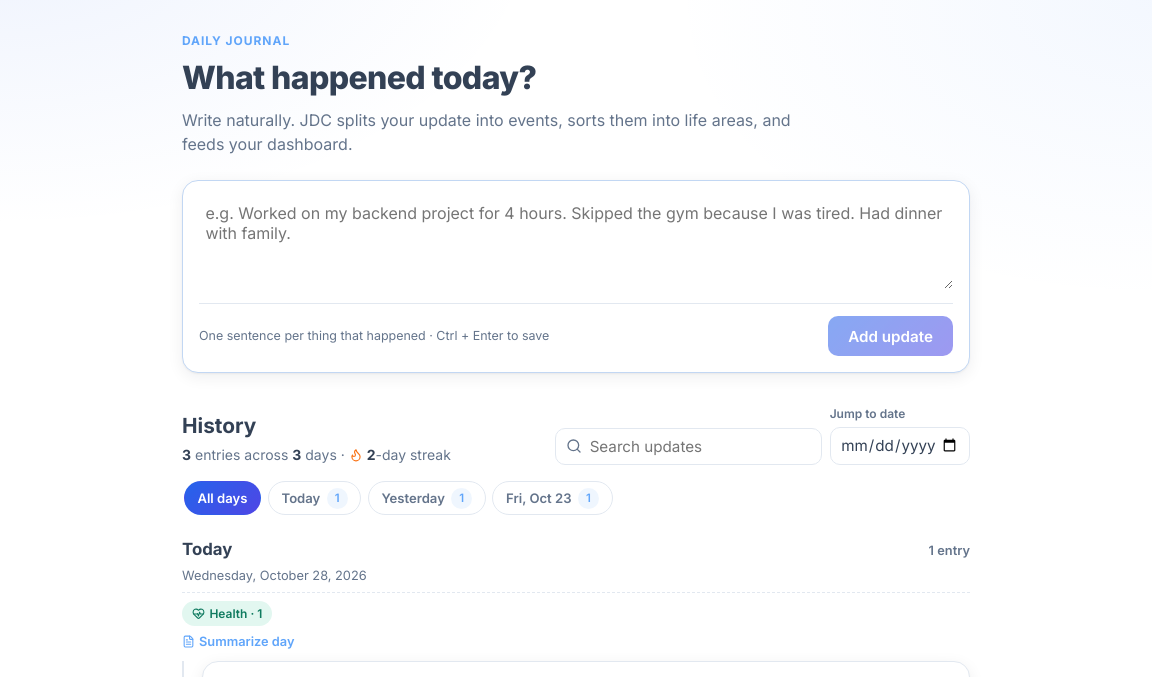
Scenario: Updates history › filters to one day from a chip and back to all
Expected: the heading "Today" is shown, top-left (182, 539), bottom-right (232, 559)
Click the button "Yesterday 1". click: (427, 498)
box: top-left (368, 481), bottom-right (486, 515)
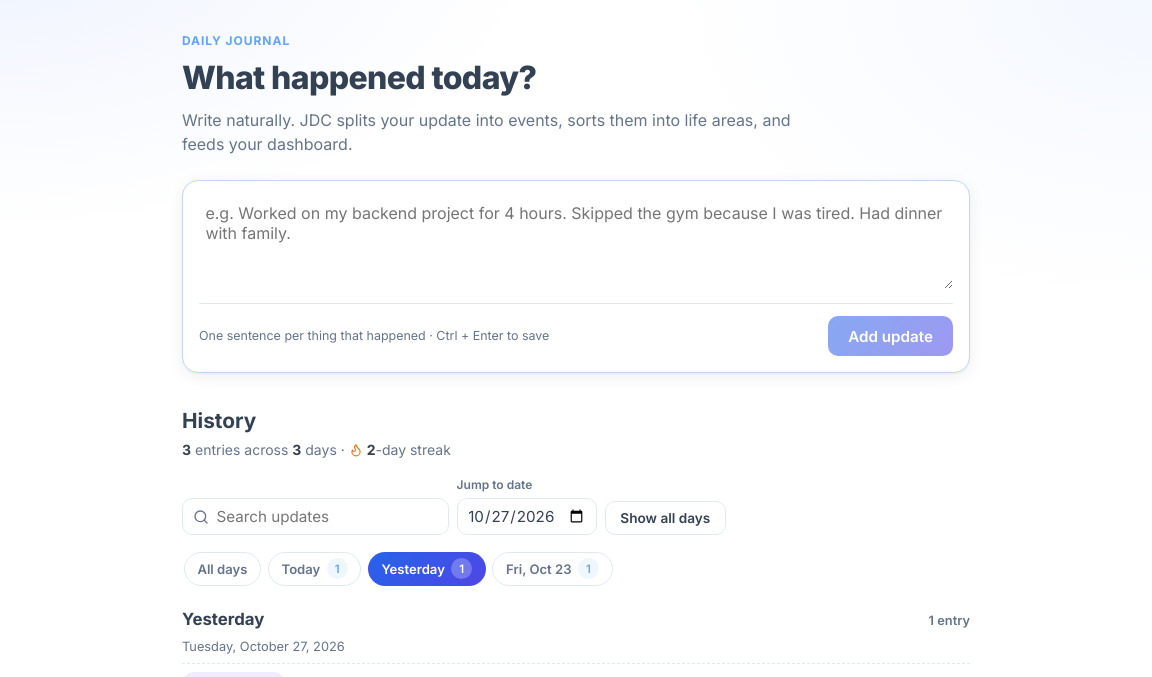
Click the button "Show all days". click: (665, 518)
box: top-left (605, 501), bottom-right (726, 535)
(page scrolled)
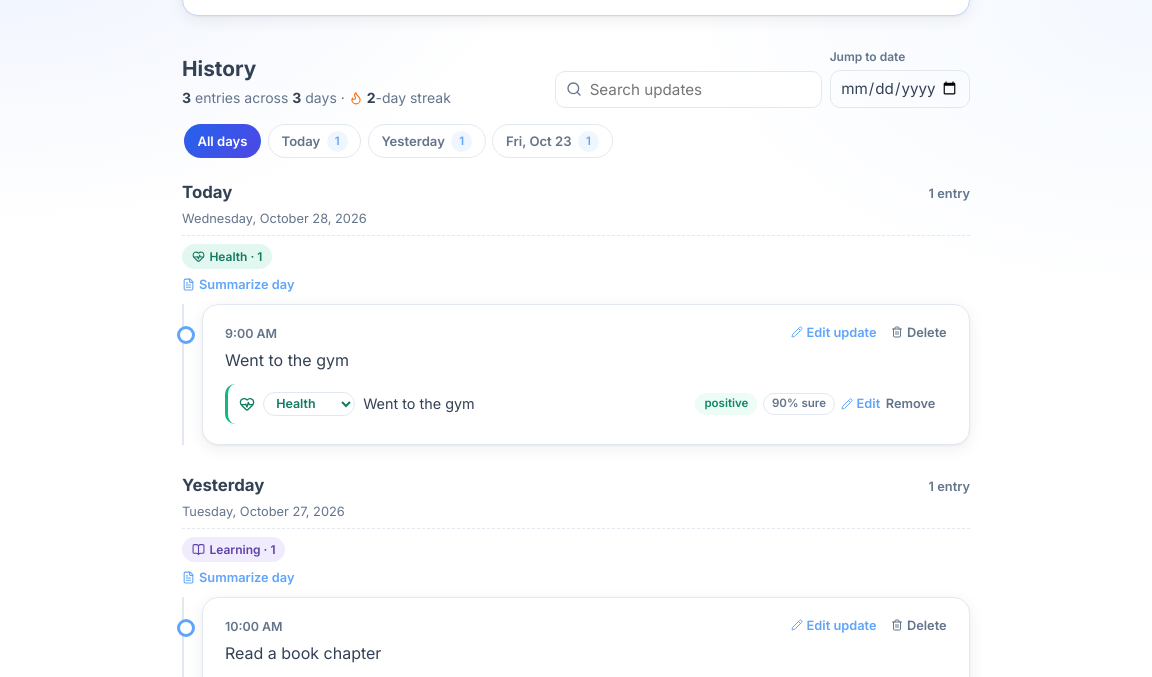
Result: the 1st text "Went to the gym" is shown at top-left (225, 350), bottom-right (349, 370)
